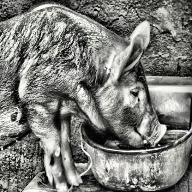boar: (0, 0, 167, 192)
